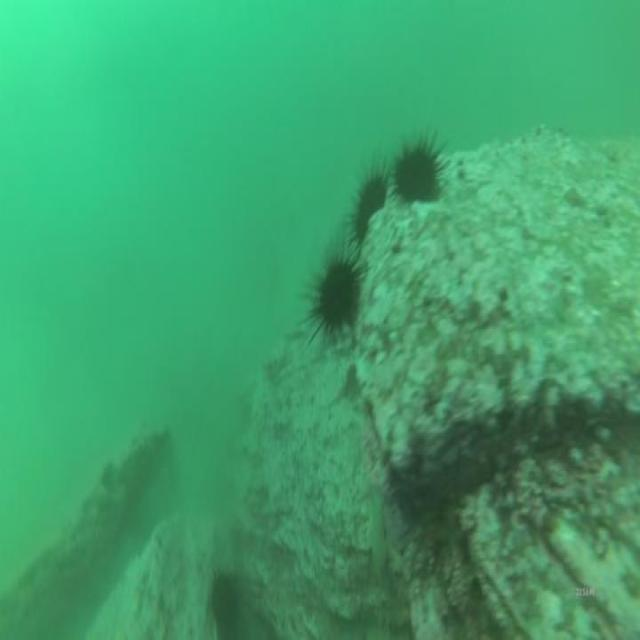echinus: (315, 261, 361, 330), (396, 144, 438, 202), (353, 172, 387, 235), (214, 578, 241, 632)
